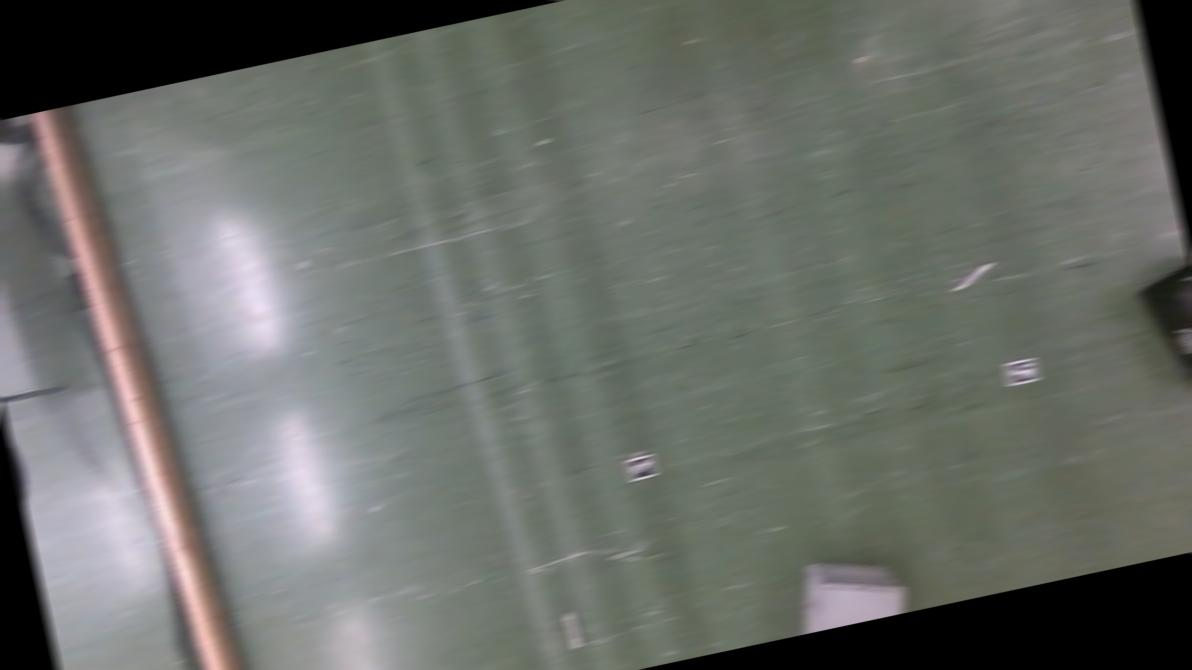probes: (948, 261, 998, 290)
rako: (784, 542, 910, 634), (1133, 254, 1192, 410)
